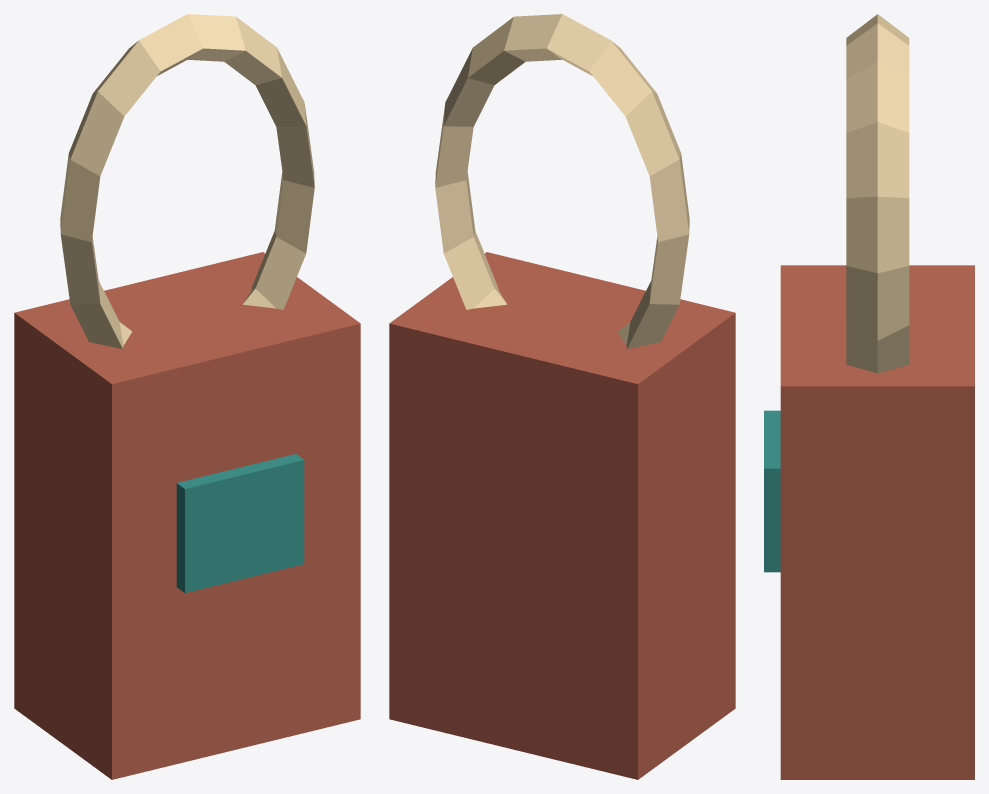
The model's file is outfit_tote.glb.
The picture shows the model from 3 angles, left to right: view 1: azimuth 30°, elevation 25°; view 2: azimuth 150°, elevation 25°; view 3: azimuth 270°, elevation 25°; orthographic projection.
Parts seen in each view (by area): view 1: bag, handle, patch; view 2: bag, handle; view 3: bag, handle, patch.
Boxes of the visible parts, left/top/right/bottom form: bag: left=14, top=252, right=360, bottom=779; handle: left=60, top=14, right=314, bottom=348; patch: left=176, top=454, right=304, bottom=592; bag: left=389, top=252, right=735, bottom=779; handle: left=435, top=14, right=689, bottom=348; bag: left=780, top=265, right=974, bottom=779; handle: left=846, top=14, right=909, bottom=373; patch: left=764, top=410, right=780, bottom=572.
Bounding box in the file's own units: 0.2548 × 0.672 × 0.1845.
